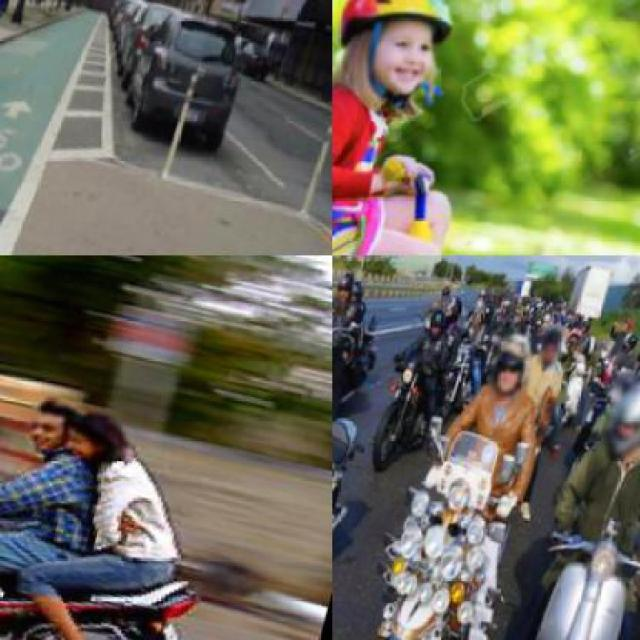With Helmet: (332, 0, 470, 115), (482, 328, 544, 418), (596, 371, 638, 471), (332, 262, 363, 312), (438, 293, 469, 335), (421, 306, 452, 348)
Without Helmet: (60, 404, 146, 467), (24, 392, 84, 446), (534, 326, 568, 376)
